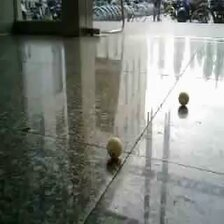w: (106, 136, 124, 159), (178, 92, 190, 106)
